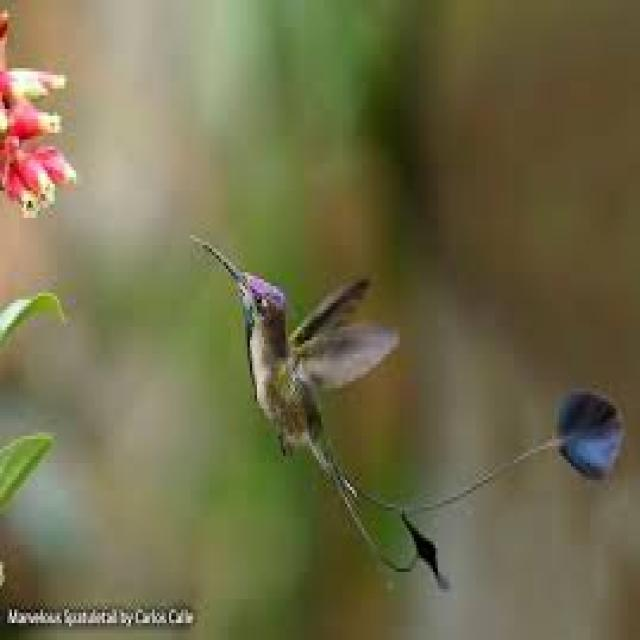Humming Bird: (183, 220, 388, 491)
